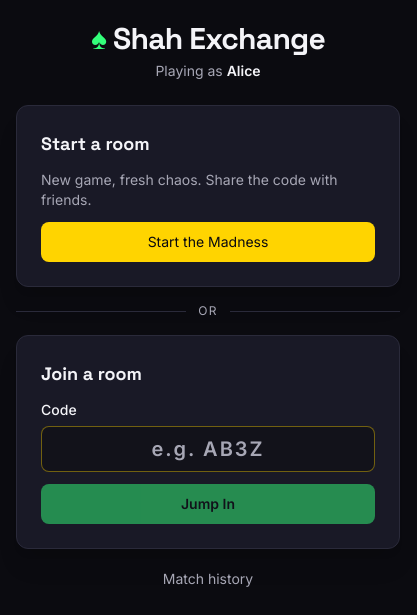
Test: LobbyPage › clears join error when user starts typing again
Type "ZZZZ" into the field labelled "Code" at x=208, y=449, box x1=41 y1=426 x2=375 y2=472
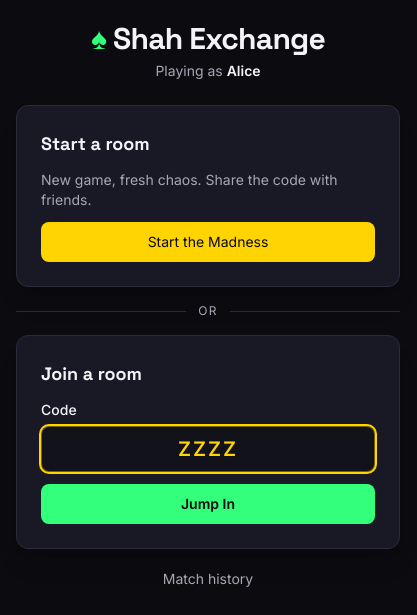
Click the button with aria-label "join room" at x=208, y=504, box x1=41 y1=484 x2=375 y2=524
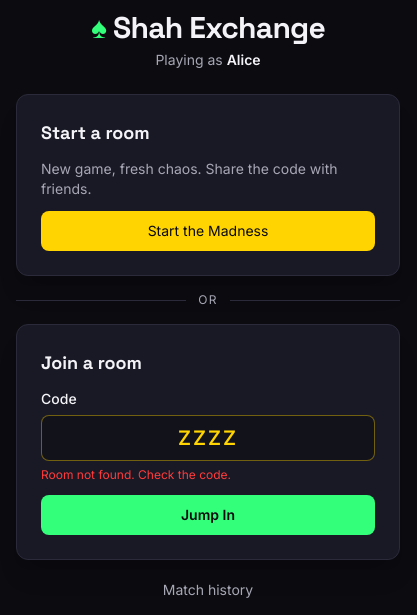
Check: the message "Room not found. Check the code." is shown, box x1=41 y1=467 x2=231 y2=482
Now type again — error should clear
Replace the text in the field labelled "Code" with "A" at x=208, y=438, box x1=41 y1=415 x2=375 y2=461
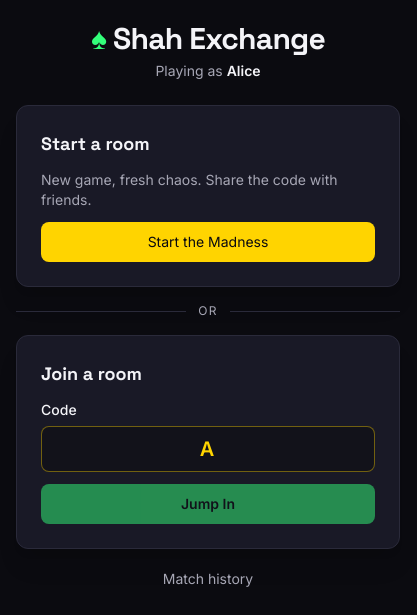
Check: the message "Room not found. Check the code." is gone
